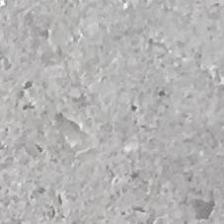Non_Crack: (14, 41, 224, 210)
